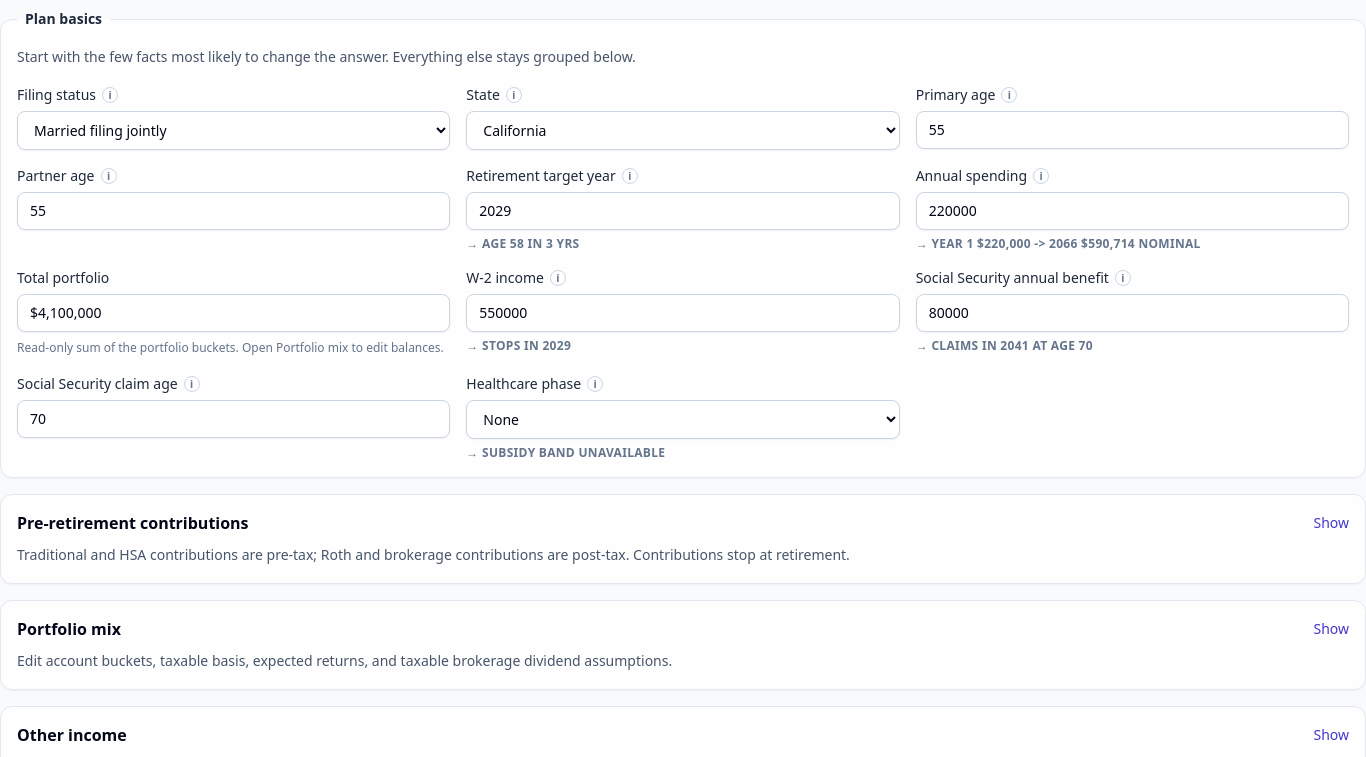
BasicForm verdict layout › reveals grouped controls with labelled regions and expanded toggle state
Click the button "Portfolio mix Show" at (69, 629), box [17,617,1349,641]
(page scrolled)
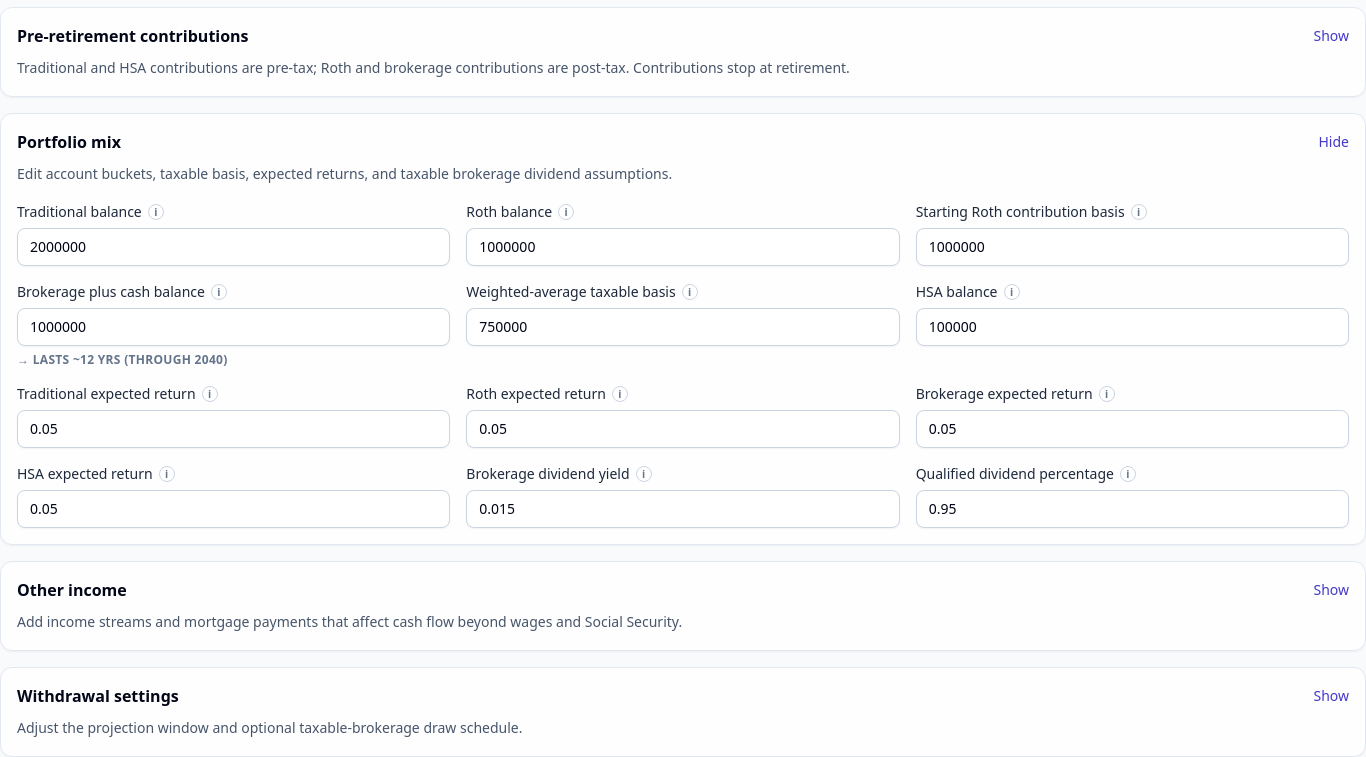
Expected: the button "Portfolio mix Hide" is expanded, [17,130,1349,154]
Expected: the field labelled "Traditional balance" is shown, [17,228,450,266]
Expected: the field labelled "Roth balance" is shown, [466,228,900,266]
Click the button "Other income Show" at (72, 590), box [17,578,1349,602]
(page scrolled)
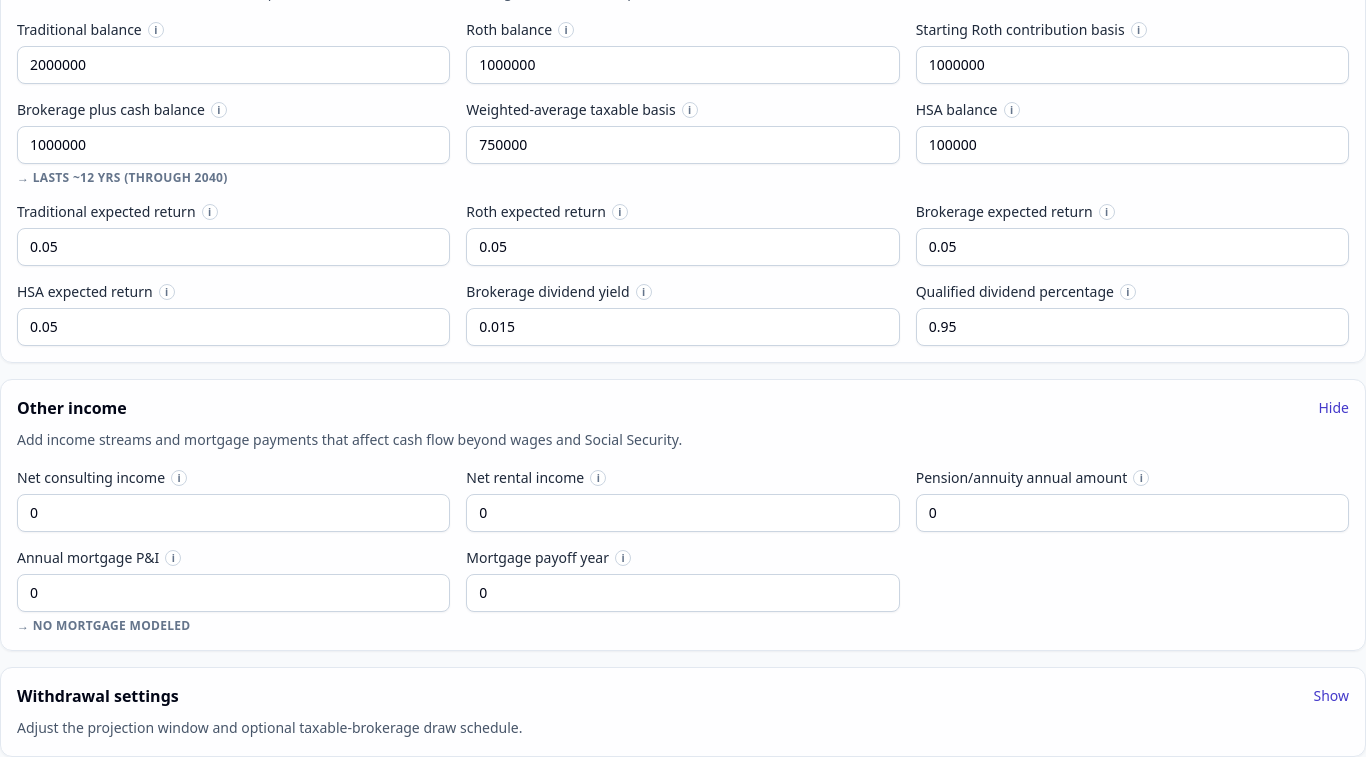
Expected: the button "Other income Hide" is expanded, [17,396,1349,420]
Expected: the field labelled "Net consulting income" is shown, [17,494,450,532]
Expected: the field labelled "Net rental income" is shown, [466,494,900,532]
Click the button "Withdrawal settings Show" at (98, 696), box [17,684,1349,708]
(page scrolled)
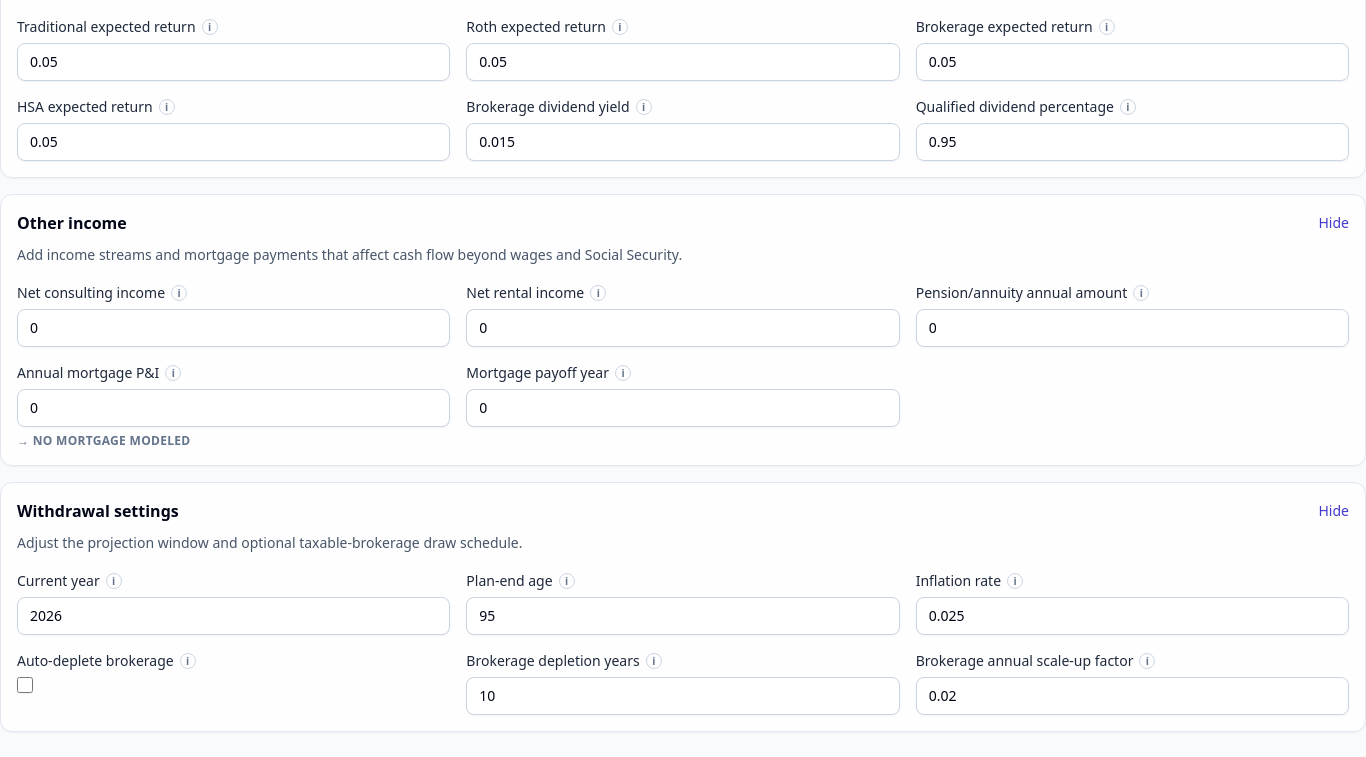
Expected: the button "Withdrawal settings Hide" is expanded, [17,499,1349,523]
Expected: the field labelled "Current year" is shown, [17,597,450,635]
Expected: the field labelled "Plan-end age" is shown, [466,597,900,635]
